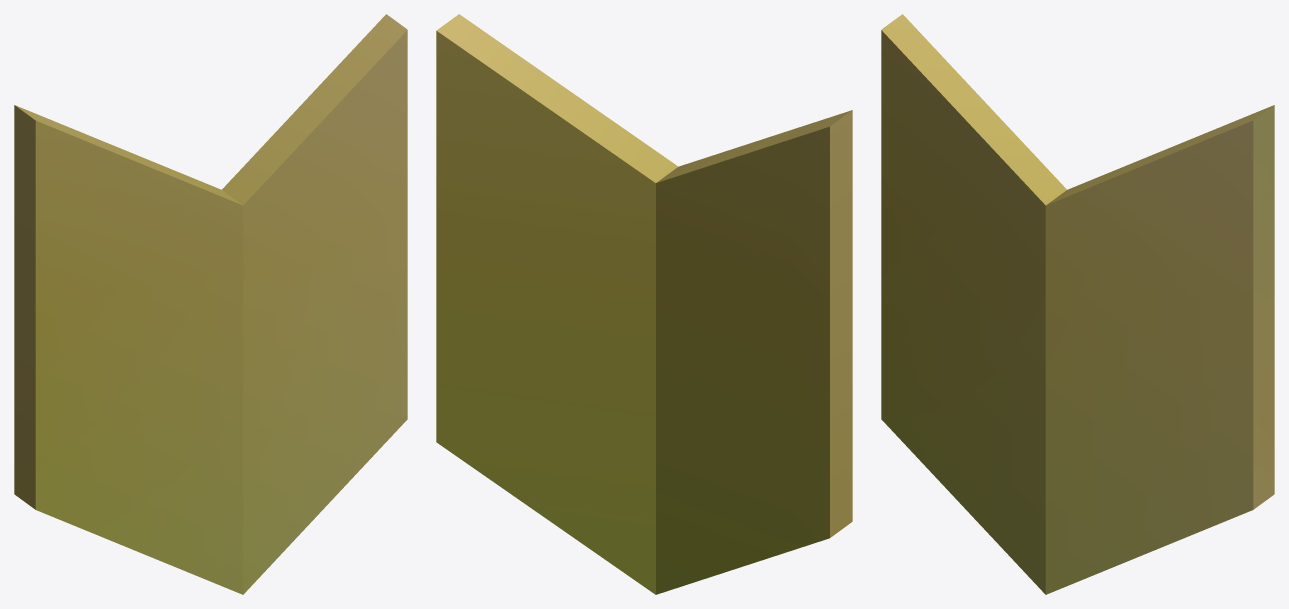
Rendered from ArmorLvl3.fbx.
The picture shows the model from 3 angles, left to right: view 1: azimuth 30°, elevation 25°; view 2: azimuth 150°, elevation 25°; view 3: azimuth 330°, elevation 25°; orthographic projection. The views are drawn at different scales.
Visible parts, largest first — view 1: armor_lvl3; view 2: armor_lvl3; view 3: armor_lvl3.
Part boxes in pixels (x1,y1,x2,y2): armor_lvl3: (14, 14, 407, 594); armor_lvl3: (436, 14, 852, 594); armor_lvl3: (881, 14, 1274, 594).
Bounding box in the file's own units: 1.4 × 1.81 × 0.2794.
